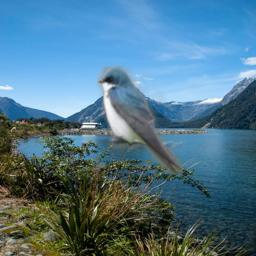Swallow: (97, 66, 183, 175)
